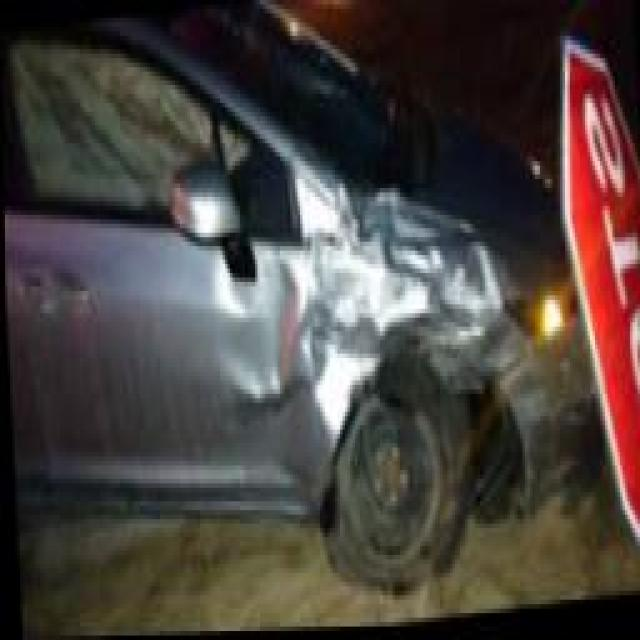Bumper: (494, 341, 597, 545)
Door: (179, 254, 318, 525)
Fender: (302, 210, 532, 524)
